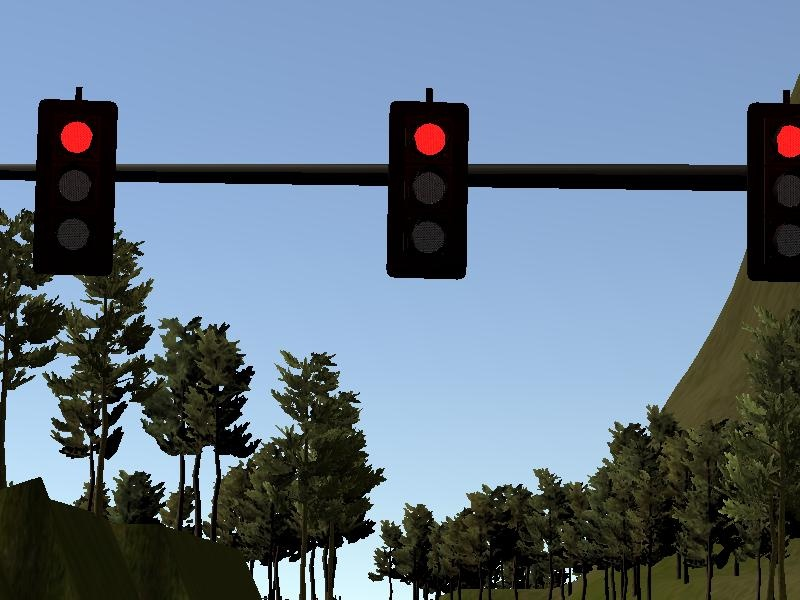RED: (34, 97, 115, 276), (386, 100, 467, 279), (746, 102, 800, 281)
